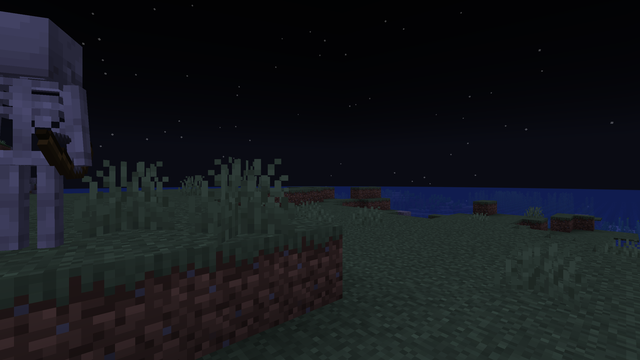squelettes: (2, 14, 79, 254)
